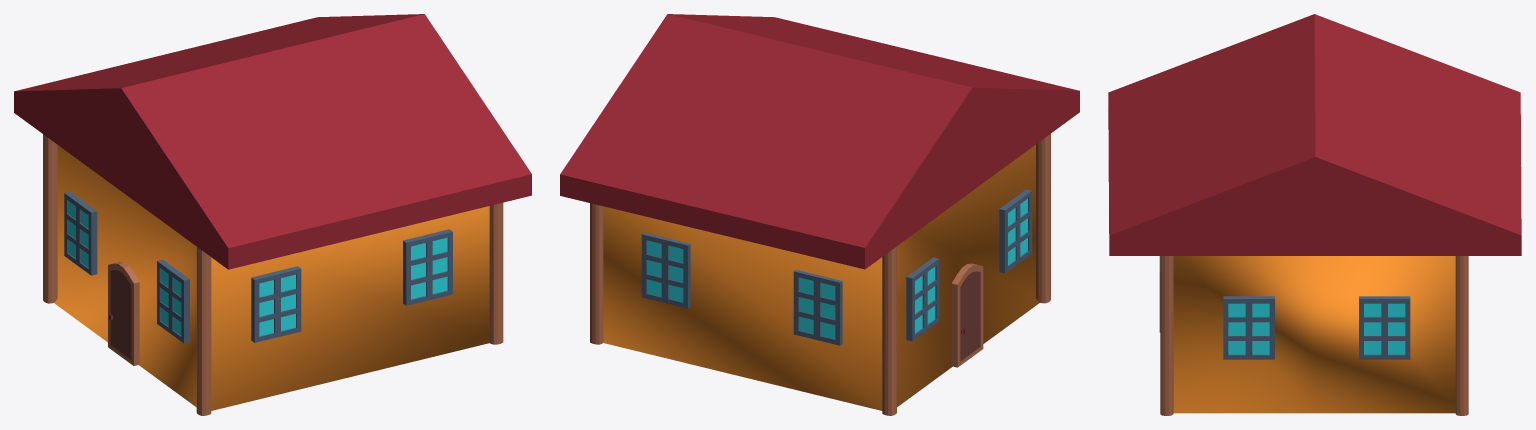
The model's file is dwelling_build_1.fbx.
The picture shows the model from 3 angles, left to right: view 1: azimuth 30°, elevation 25°; view 2: azimuth 150°, elevation 25°; view 3: azimuth 270°, elevation 25°; orthographic projection. The views are drawn at different scales.
Parts seen in each view (by area): view 1: Cube.011, sciany, Cube.014, Cube.015, Cube.010, Cube.009, Cube.006, Cube.001, Cube.013, Cube.008; view 2: Cube.011, sciany, Cube.005, Cube.004, Cube.010, Cube.006, Cube.009, Cube.001, Cube.013, Cube.007; view 3: Cube.011, sciany, Cube.003, Cube.016, Cube.007, Cube.008.
Boxes of the visible parts, x1=… form: Cube.011: x1=14, y1=14, x2=531, y2=269; sciany: x1=54, y1=145, x2=489, y2=410; Cube.014: x1=251, y1=266, x2=301, y2=342; Cube.015: x1=403, y1=229, x2=452, y2=305; Cube.010: x1=108, y1=262, x2=139, y2=365; Cube.009: x1=196, y1=247, x2=211, y2=415; Cube.006: x1=43, y1=134, x2=57, y2=303; Cube.001: x1=64, y1=191, x2=97, y2=275; Cube.013: x1=157, y1=259, x2=189, y2=343; Cube.008: x1=489, y1=202, x2=503, y2=344; Cube.011: x1=560, y1=14, x2=1079, y2=269; sciany: x1=603, y1=144, x2=1039, y2=410; Cube.005: x1=641, y1=232, x2=690, y2=308; Cube.004: x1=793, y1=269, x2=842, y2=345; Cube.010: x1=951, y1=263, x2=983, y2=367; Cube.006: x1=882, y1=246, x2=896, y2=415; Cube.009: x1=1036, y1=134, x2=1050, y2=303; Cube.001: x1=906, y1=257, x2=939, y2=341; Cube.013: x1=999, y1=189, x2=1031, y2=273; Cube.007: x1=590, y1=203, x2=603, y2=344; Cube.011: x1=1108, y1=14, x2=1521, y2=255; sciany: x1=1173, y1=256, x2=1455, y2=413; Cube.003: x1=1223, y1=296, x2=1274, y2=359; Cube.016: x1=1359, y1=296, x2=1410, y2=359; Cube.007: x1=1455, y1=256, x2=1468, y2=415; Cube.008: x1=1160, y1=256, x2=1173, y2=415.
Bounding box in the file's own units: 5.15 × 4.35 × 6.27.
